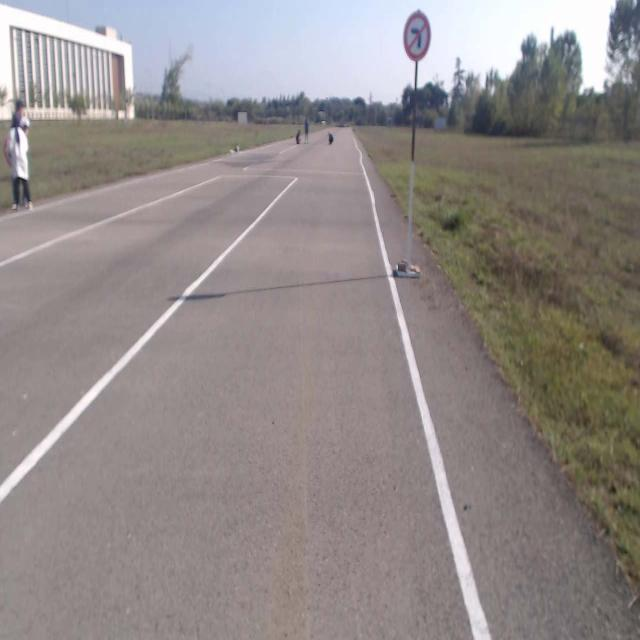soladonulmez: (404, 12, 430, 63)
